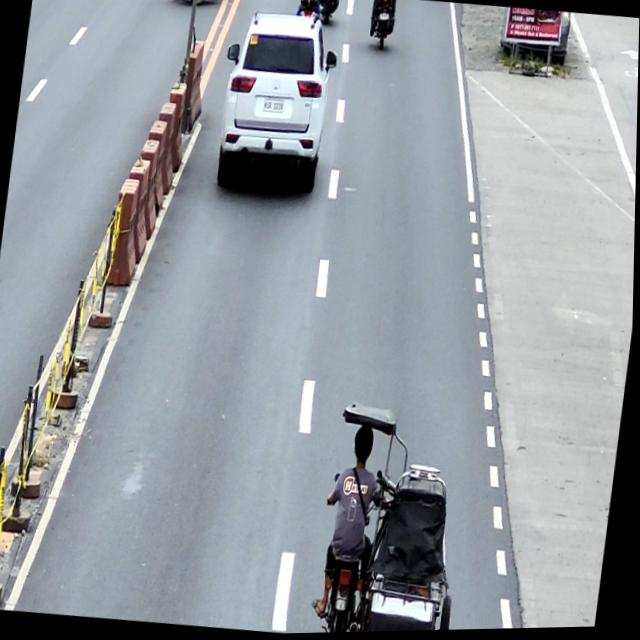Car: (210, 9, 342, 201)
License-Plate: (262, 100, 285, 115), (379, 13, 389, 21)
Motorcycle: (366, 0, 397, 54)
Tricycle: (316, 401, 482, 634)
